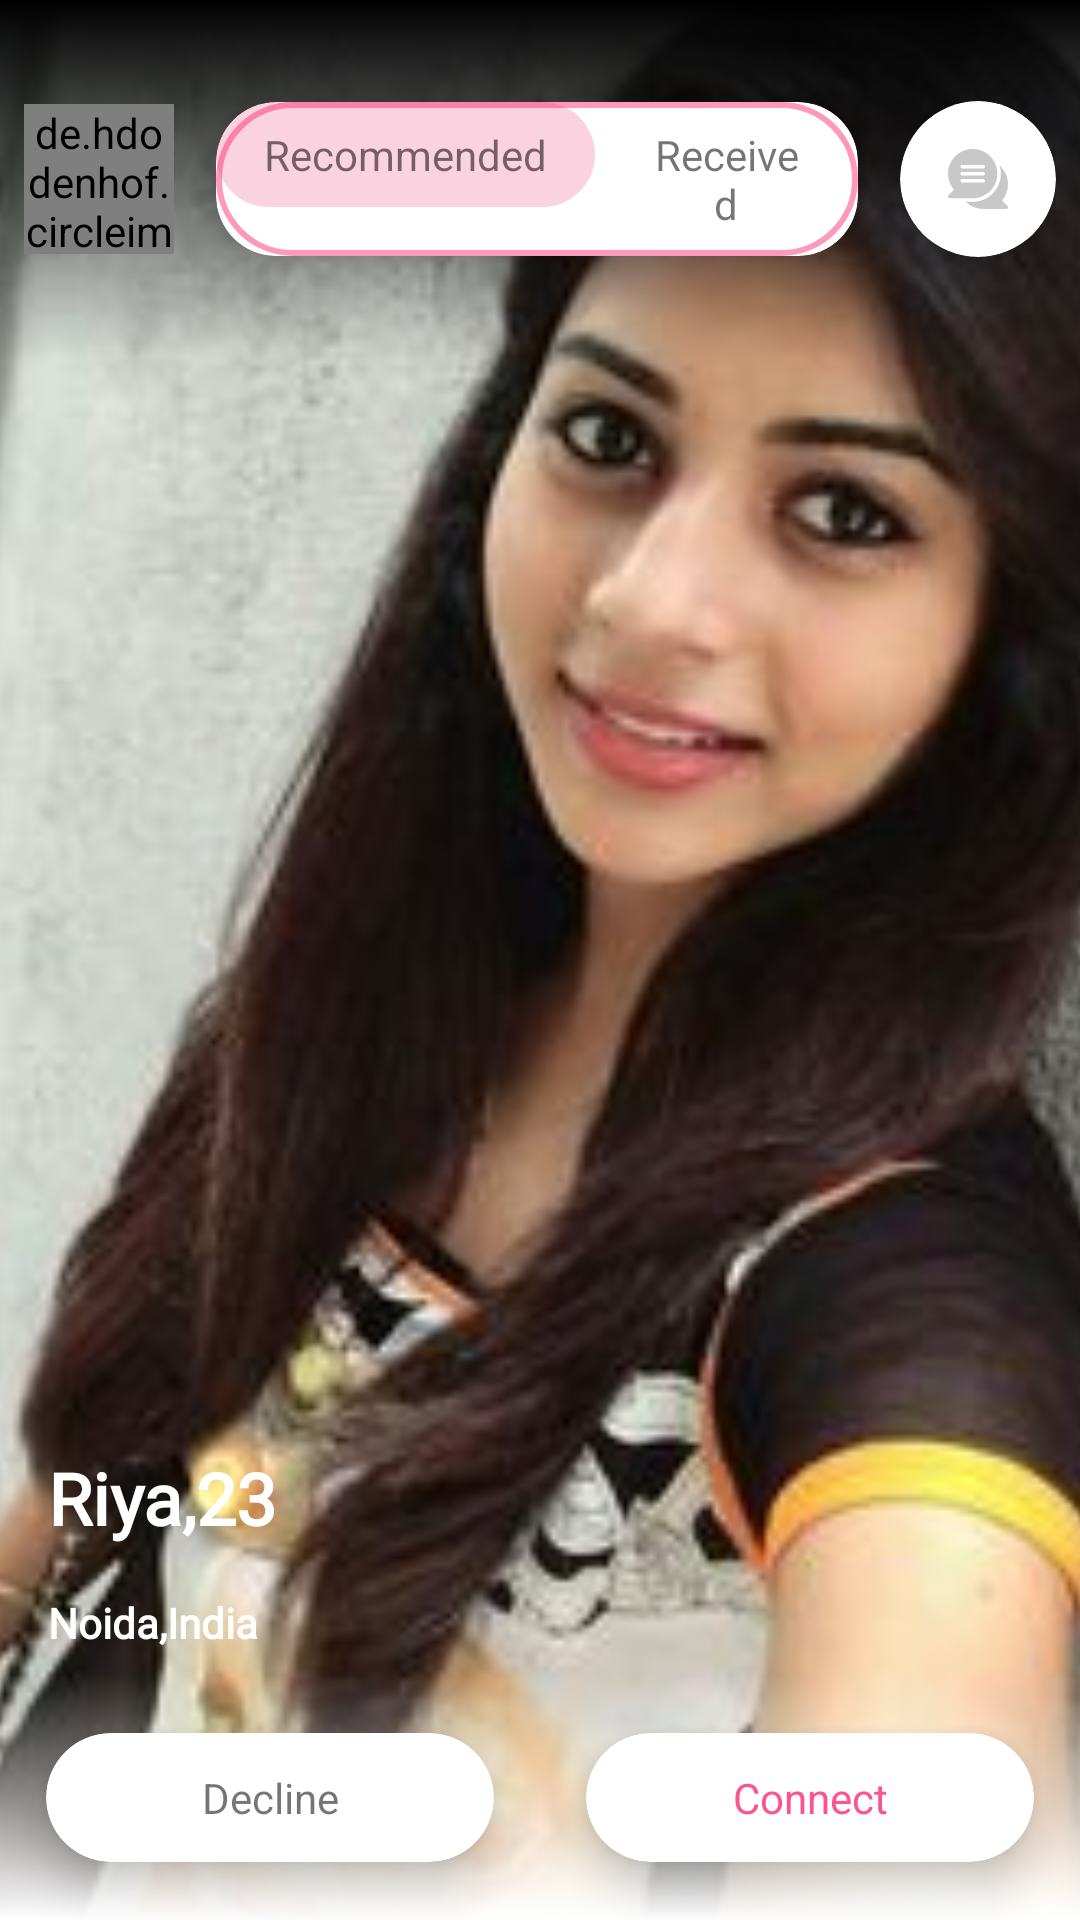

Icons on this 1080 x 1920 Android screen, each with its box as region(x1, y1, x2, y2):
chat: region(948, 149, 1008, 209)
